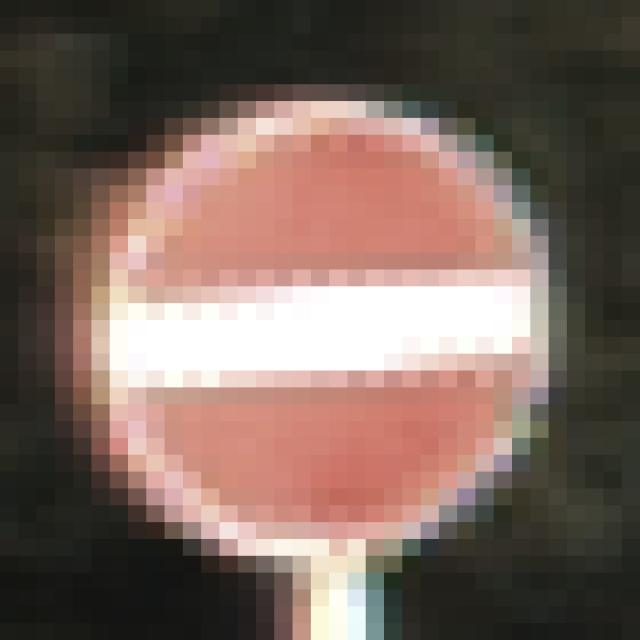No Entry: (93, 85, 550, 557)
